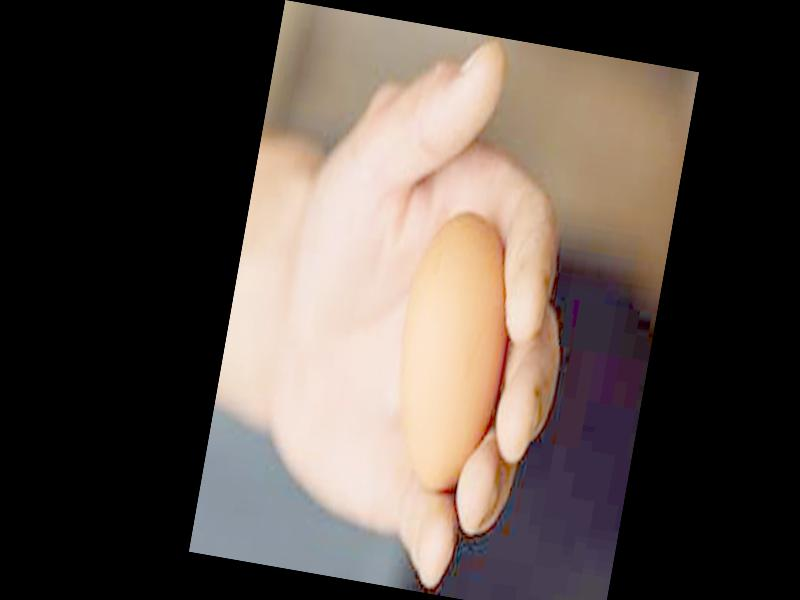Eggs: (378, 208, 523, 499)
